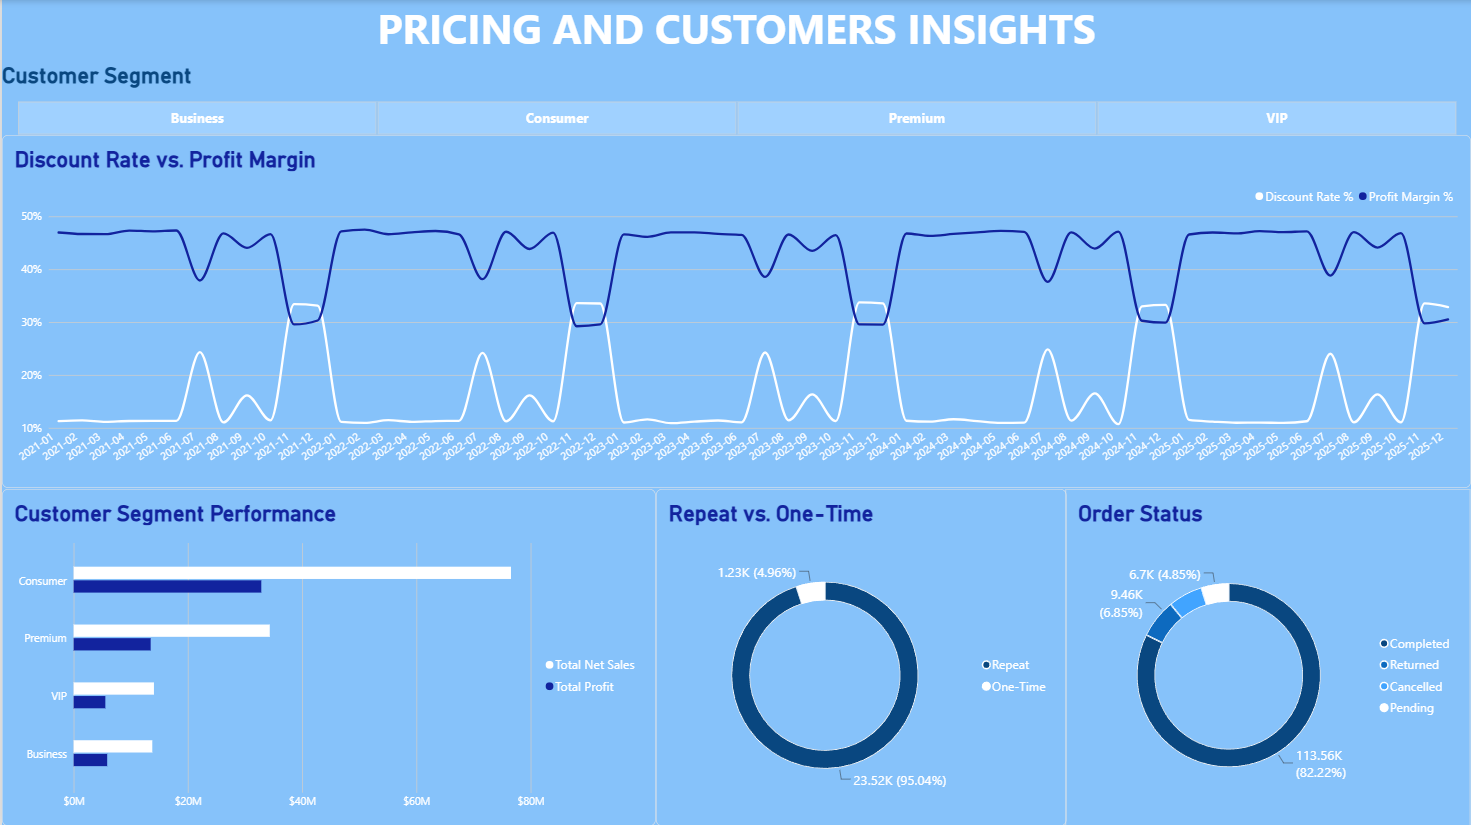

The dashboard page shown, as its layout file describes it:
{"tool":"powerbi","page":{"name":"Pricing & Customer Insights","canvas":[1920,1080],"ordinal":1},"visuals":[{"type":"lineChart","title":"Discount Rate vs. Profit Margin","fields":{"Category":["sales_analysis.Year_Month"],"Y":["sales_analysis.Discount Rate %","sales_analysis.Profit Margin %"]},"box":[0,177.3,1920.5,461.4],"z":0},{"type":"clusteredBarChart","title":"Customer Segment Performance","fields":{"Category":["sales_analysis.customer_segment"],"Y":["sales_analysis.Total Net Sales","sales_analysis.Total Profit"]},"box":[0,638.6,854.5,440.9],"z":1000},{"type":"donutChart","title":"Repeat vs. One-Time","fields":{"Category":["Customer Summary.Customer Purchase Type"],"Y":["Count(Customer Summary.customer_id)"]},"box":[854.5,638.6,536.4,440.9],"z":2000},{"type":"donutChart","title":"Order Status","fields":{"Category":["sales_analysis.order_status"],"Y":["CountNonNull(sales_analysis.order_id)"]},"box":[1390.9,638.6,529.5,440.9],"z":3000},{"type":"slicer","title":"Customer Segment","fields":{"Values":["sales_analysis.customer_segment"]},"box":[0,81.8,1920.5,95.5],"z":4000},{"type":"textbox","box":[0,0,1920.5,81.8],"z":4001}]}

Visuals, with their boxes in screenshot pixels (x1, y1, x2, y2), scaled from the page's 1920x1080 canvas onto the 1471x825 screenshot:
"Discount Rate vs. Profit Margin" lineChart: bbox=(0, 135, 1470, 488)
"Customer Segment Performance" clusteredBarChart: bbox=(0, 488, 655, 824)
"Repeat vs. One-Time" donutChart: bbox=(655, 488, 1066, 824)
"Order Status" donutChart: bbox=(1066, 488, 1470, 824)
"Customer Segment" slicer: bbox=(0, 62, 1470, 135)
textbox: bbox=(0, 0, 1470, 62)
